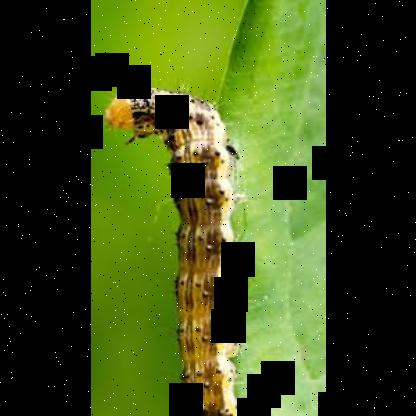oruga: (103, 76, 253, 416)
